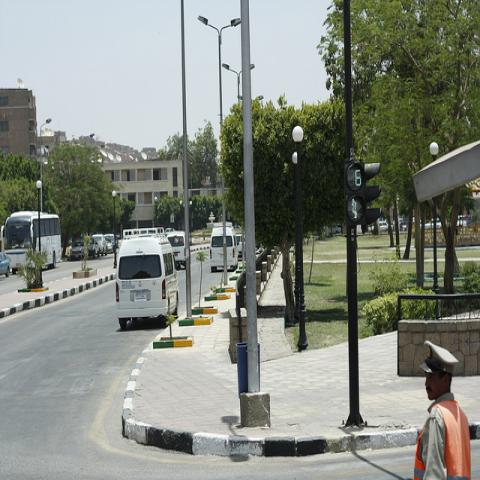bus: (3, 213, 62, 272), (122, 227, 164, 238)
car: (114, 227, 180, 330), (209, 226, 239, 274), (166, 230, 185, 268), (88, 234, 107, 259), (70, 239, 88, 261), (236, 232, 246, 260), (0, 252, 11, 276), (104, 234, 114, 254), (378, 221, 388, 231), (116, 236, 118, 248)
